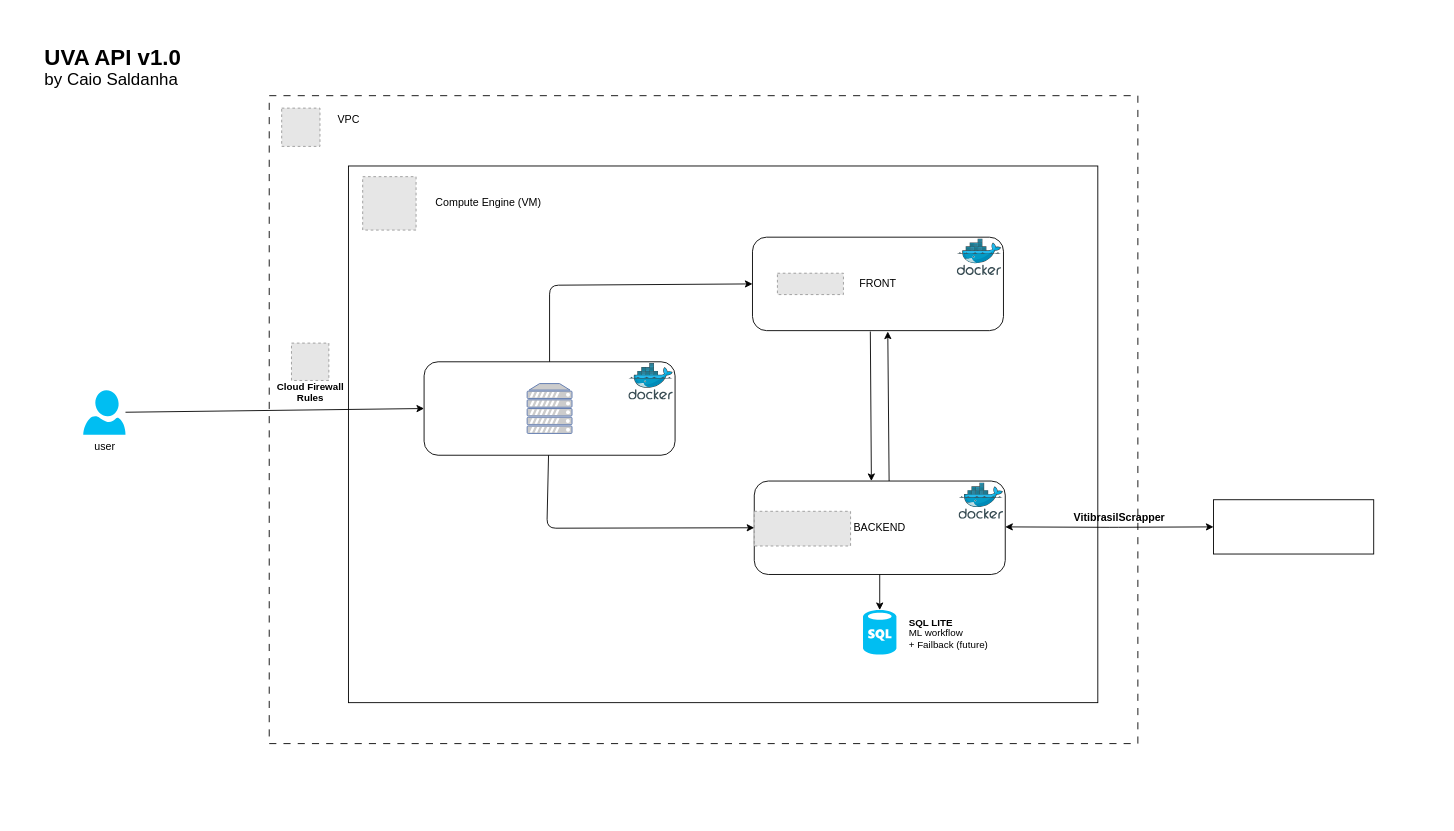
The diagram is 1454 pixels wide and 831 high, and some of its shapes have lost their labels. Grey dashed boxes stand in for pictures. Here are the shapes that lost their labels. From the top down, the centre of each, then its label:
point 549,408: nginx
point 1293,526: Vitibrasil Embrapa
